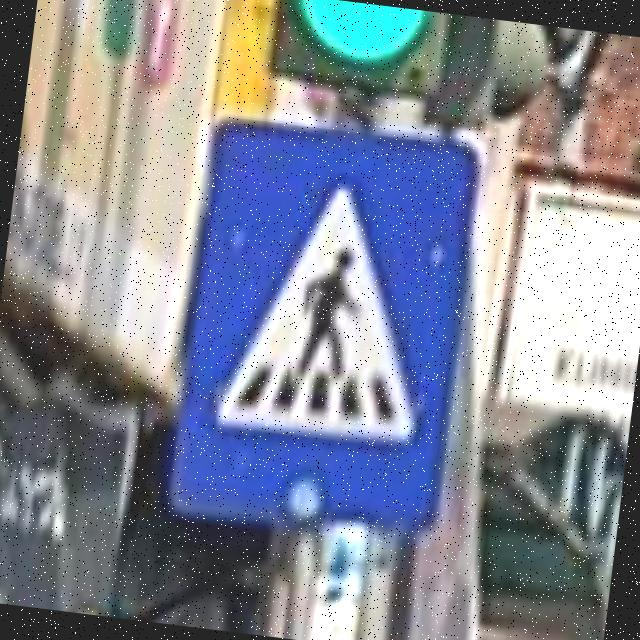Przejscie dla pieszych: (169, 120, 485, 543)
